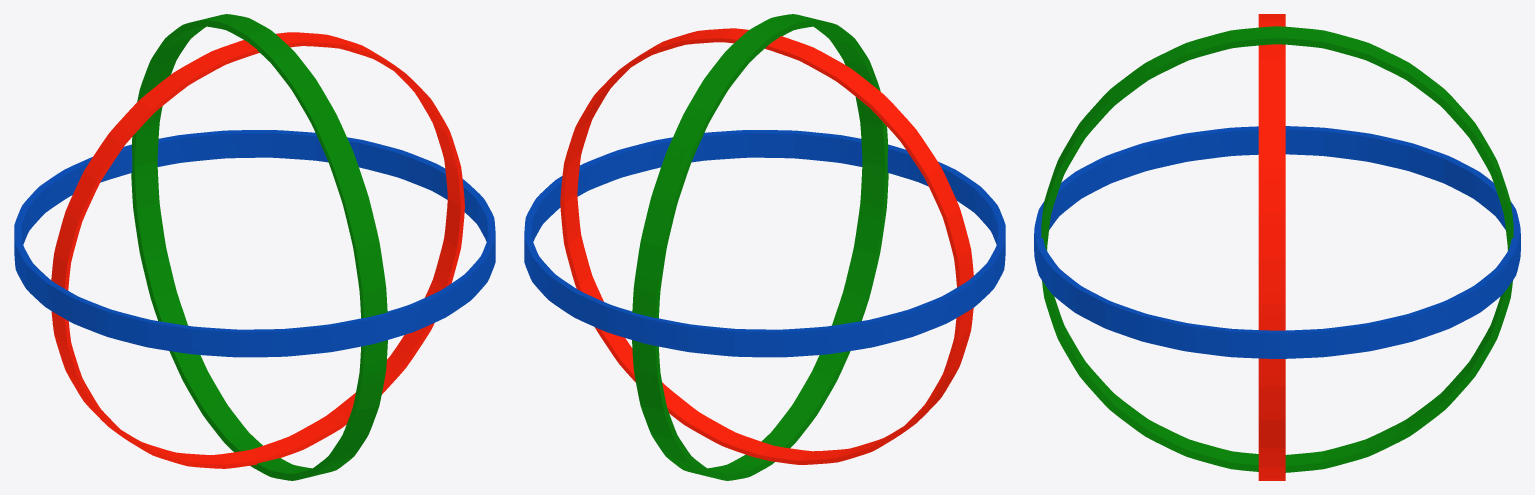
The model's file is rotate_gizmo.gltf.
The picture shows the model from 3 angles, left to right: view 1: azimuth 30°, elevation 25°; view 2: azimuth 150°, elevation 25°; view 3: azimuth 270°, elevation 25°; orthographic projection.
Parts seen in each view (by area): view 1: ZHandle, XHandle, YHandle; view 2: ZHandle, XHandle, YHandle; view 3: ZHandle, XHandle, YHandle.
Boxes of the visible parts, <box> form: ZHandle: <box>14,130,495,357</box>; XHandle: <box>131,14,387,480</box>; YHandle: <box>51,32,464,468</box>; ZHandle: <box>524,130,1005,357</box>; XHandle: <box>632,14,888,480</box>; YHandle: <box>560,28,973,464</box>; ZHandle: <box>1034,126,1520,358</box>; XHandle: <box>1041,26,1513,472</box>; YHandle: <box>1258,14,1285,480</box>.
Size of the model in its own units: 2.04 by 2 by 2.02.
3 materials, 3 textured.
